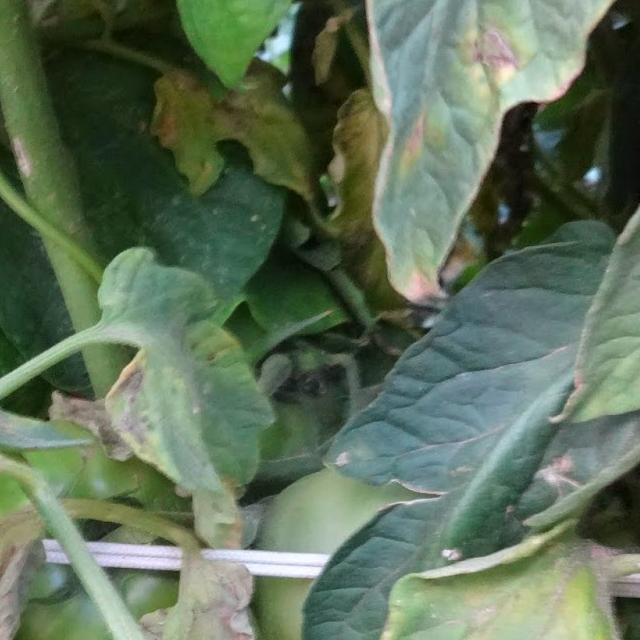Tomato leaf late blight: (313, 0, 640, 323), (79, 235, 282, 529), (0, 293, 92, 484), (0, 629, 335, 640)
